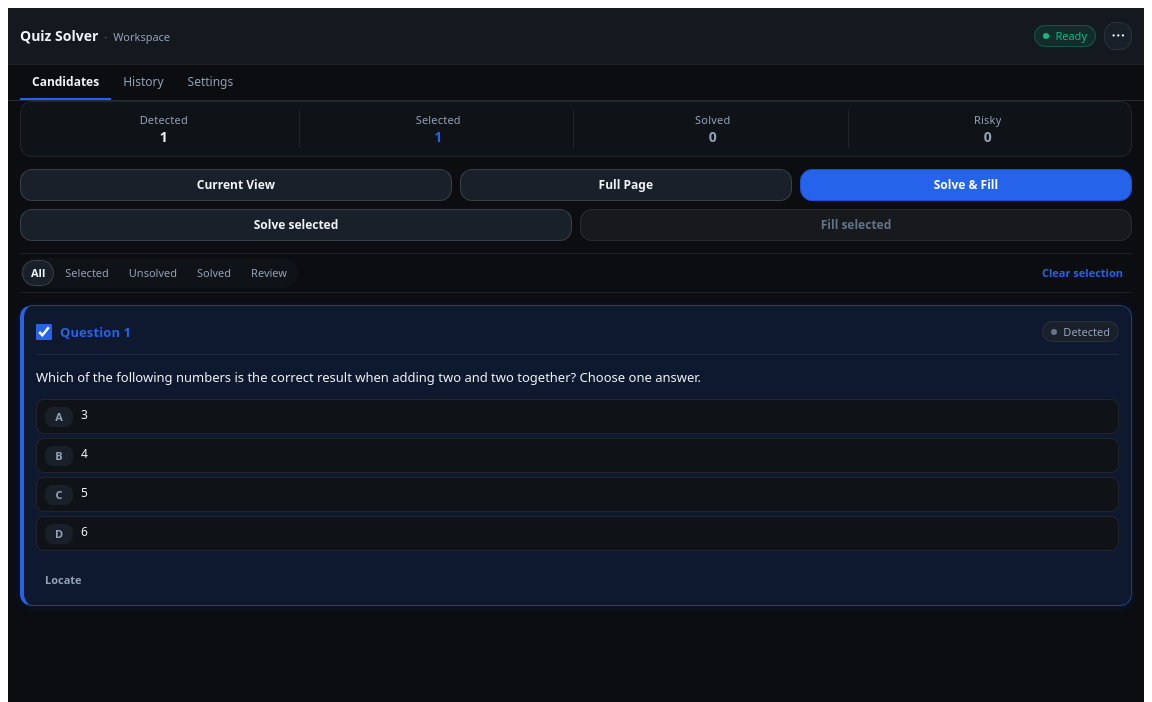
UI-04 real App/actions/bridge/hydration feedback wiring › RF01-FB02 single Fill failure
The width and height of the screenshot is (1152, 702).
Click the button "Solve selected".
click(296, 225)  # box [20, 209, 572, 241]
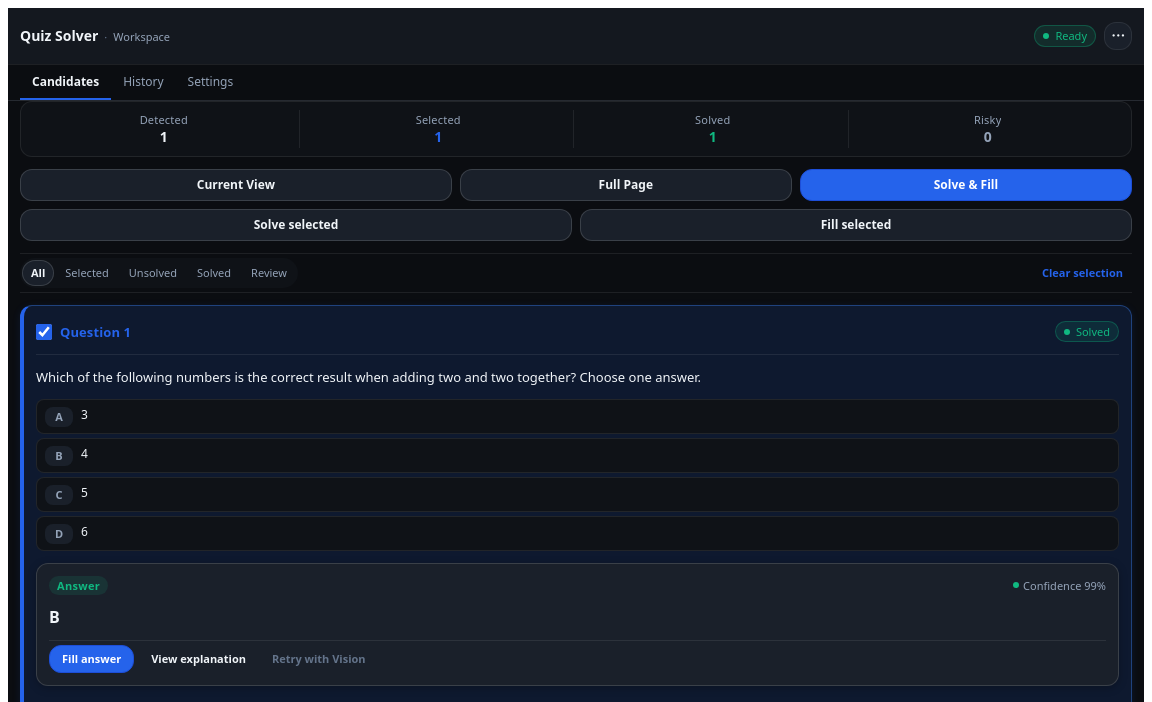
Expected: the button "Fill answer" is enabled
Click the button "Fill answer".
click(92, 659)  # box [49, 645, 134, 673]
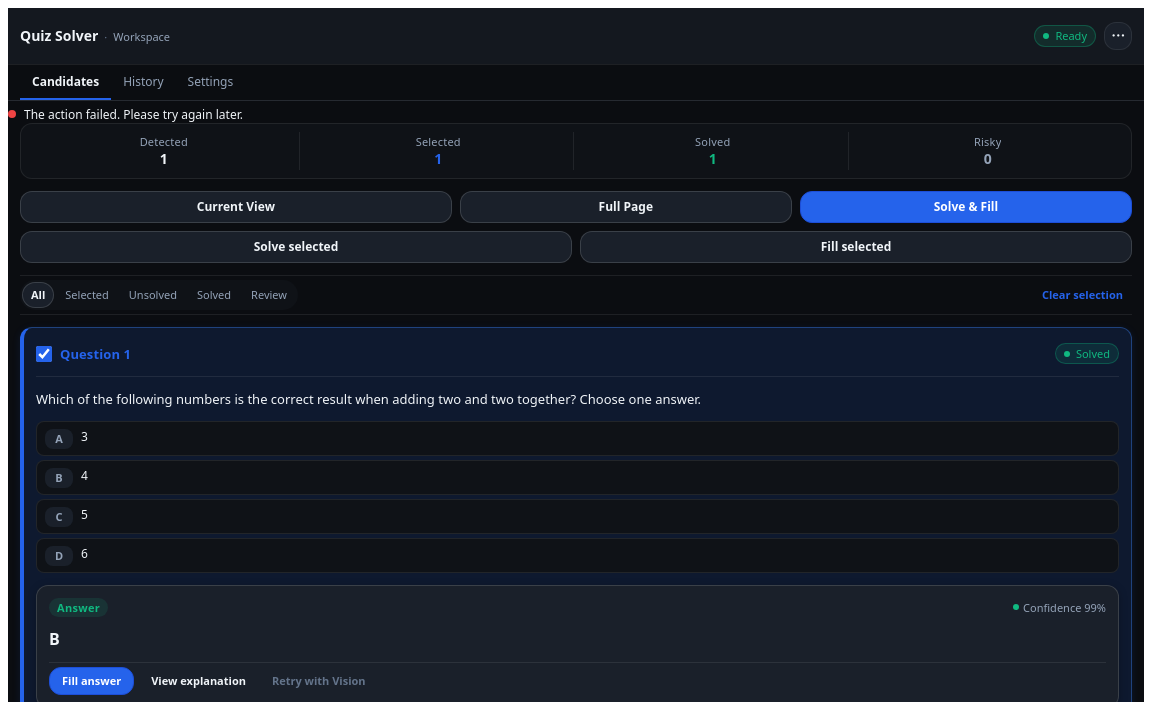
Expected: the element with test id "workspace-user-feedback" does not show "SECRET_DETAIL", [8, 106, 243, 122]
Expected: the element with test id "workspace-user-feedback" is shown, [8, 106, 243, 122]
